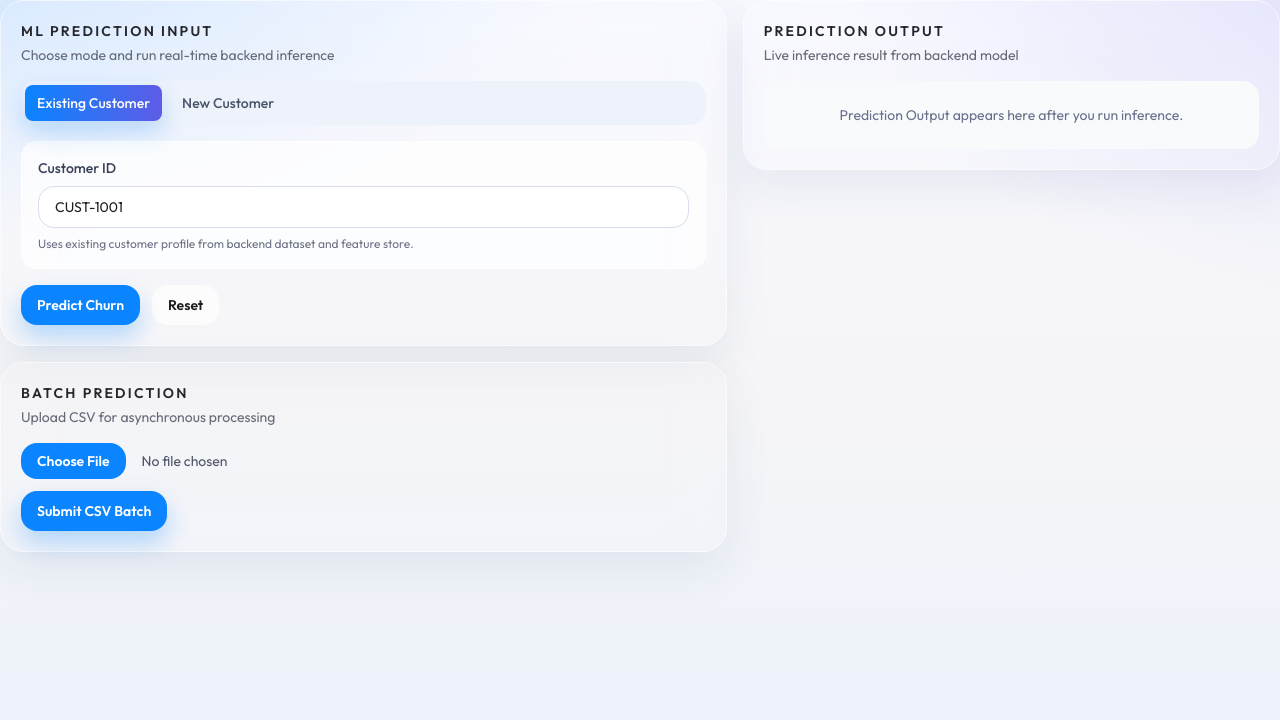
Test: Prediction page workflow › submits JSON payload and renders churn probability
Click the button "Predict Churn" at [80, 305], box [21,285,140,325]
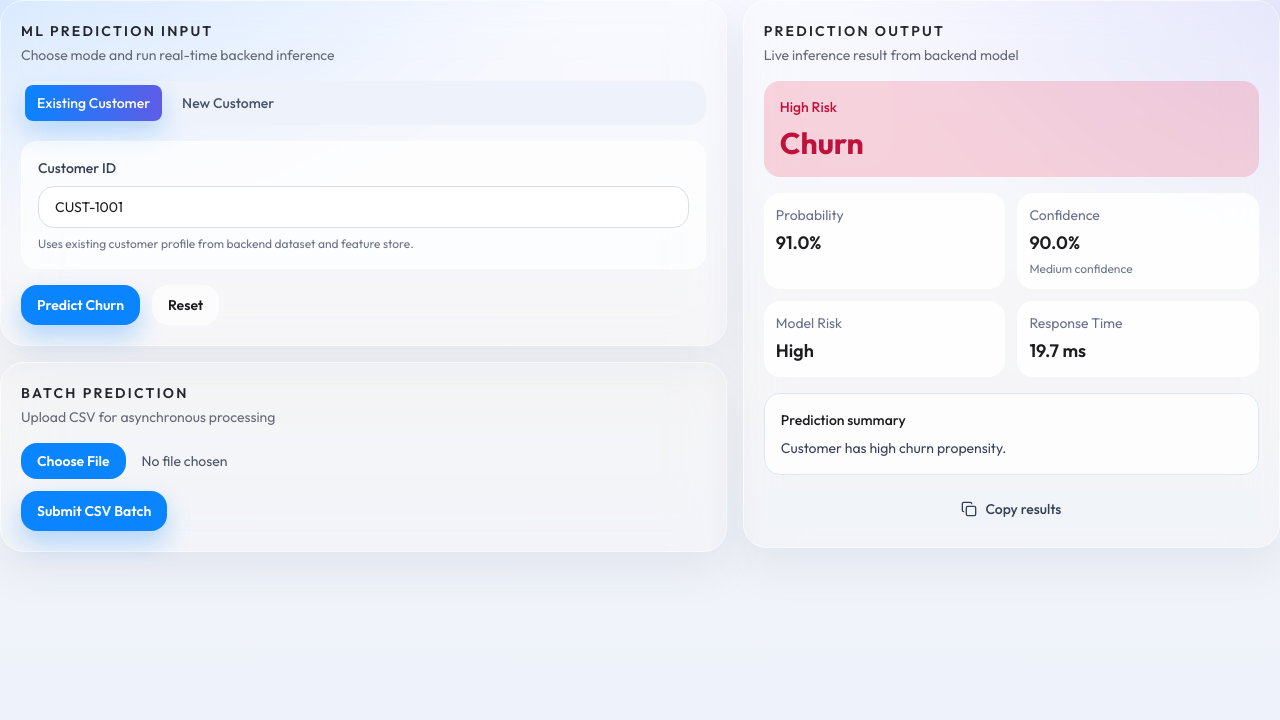
Check: the heading "Prediction Output" is shown, box [764,22,945,40]
Check: the text "Churn" is shown, box [780,124,864,162]
Check: the text "91.0%" is shown, box [776,231,821,254]
